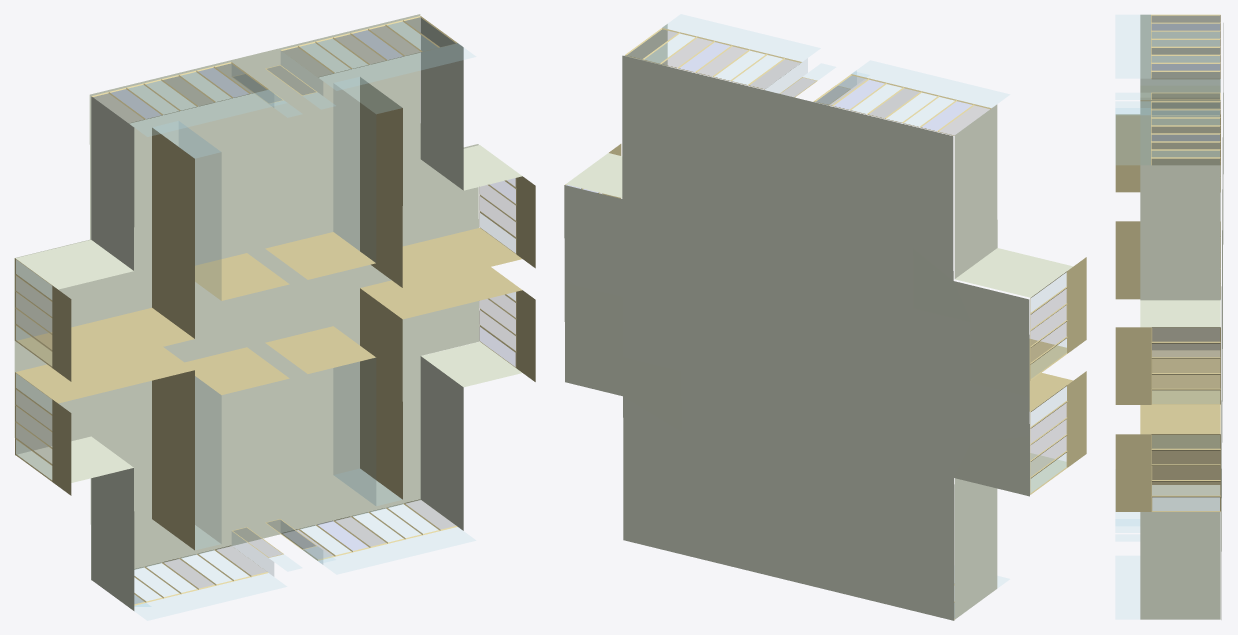
Rendered from vertfloor9.glb.
3 views of the same model, side by side, from view 1: azimuth 30°, elevation 25°; view 2: azimuth 150°, elevation 25°; view 3: azimuth 270°, elevation 25° (orthographic). The views are drawn at different scales.
Parts seen in each view (by area): view 1: floor1.009; view 2: floor1.009; view 3: floor1.009.
Part boxes in pixels (x1,y1,x2,y2): floor1.009: (14, 14, 535, 620); floor1.009: (564, 14, 1086, 620); floor1.009: (1115, 14, 1223, 619).
Bounding box in the file's own units: 6.01 × 6 × 1.29.
